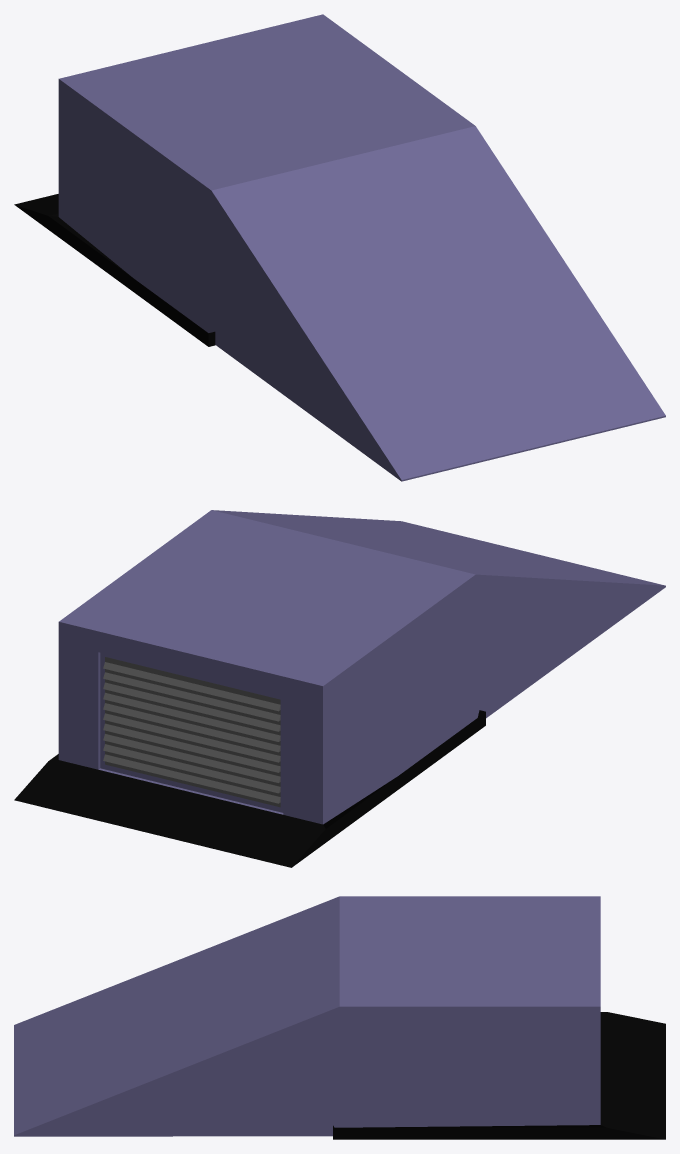
File: Ramp #2.fbx
3 views of the same model, one above another, from view 1: azimuth 30°, elevation 25°; view 2: azimuth 150°, elevation 25°; view 3: azimuth 270°, elevation 25° (orthographic). The views are drawn at different scales.
Visible parts, largest first — view 1: building_001; view 2: building_001; view 3: building_001.
Part boxes in pixels (bbox=[...]): building_001: bbox=[14, 14, 665, 481]; building_001: bbox=[14, 510, 665, 867]; building_001: bbox=[14, 896, 665, 1139].
Size of the model in its own units: 420 by 220 by 999.
